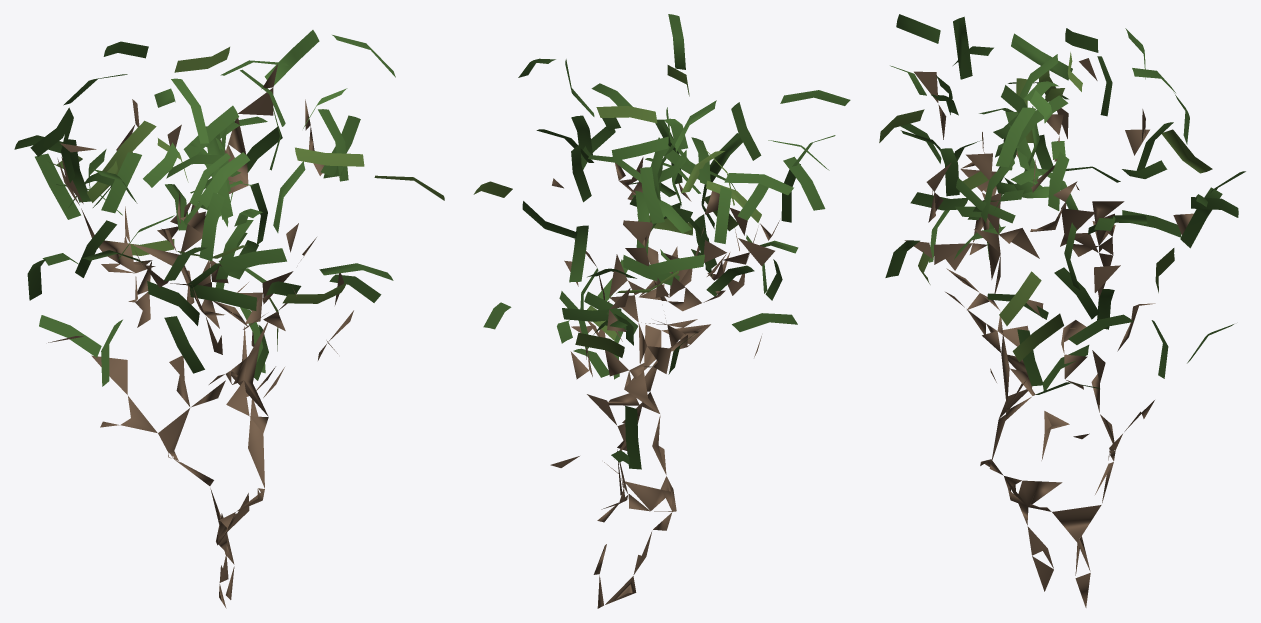
The model's file is arvore_3_muito_longe.glb.
The picture shows the model from 3 angles, left to right: view 1: azimuth 30°, elevation 25°; view 2: azimuth 150°, elevation 25°; view 3: azimuth 270°, elevation 25°; orthographic projection. The views are drawn at different scales.
Parts seen in each view (by area): view 1: arvore_3_muito_longe; view 2: arvore_3_muito_longe; view 3: arvore_3_muito_longe.
Part boxes in pixels (bbox=[...]): arvore_3_muito_longe: bbox=[14, 30, 444, 608]; arvore_3_muito_longe: bbox=[473, 14, 850, 608]; arvore_3_muito_longe: bbox=[879, 14, 1245, 607].
Size of the model in its own units: 1.77 by 2.53 by 1.52.
